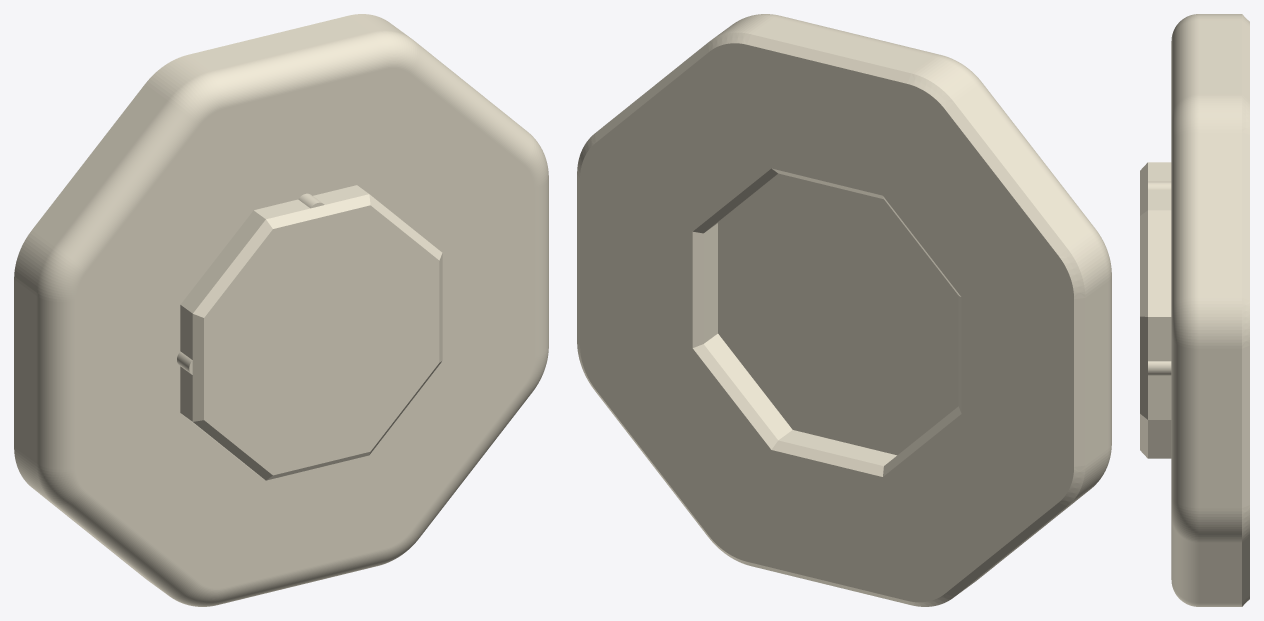
File: t2@ivory.glb
3 views of the same model, side by side, from view 1: azimuth 30°, elevation 25°; view 2: azimuth 150°, elevation 25°; view 3: azimuth 270°, elevation 25° (orthographic). The views are drawn at different scales.
Visible parts, largest first — view 1: geometry_0; view 2: geometry_0; view 3: geometry_0.
Part boxes in pixels (bbox=[...]): geometry_0: bbox=[14, 14, 548, 606]; geometry_0: bbox=[577, 14, 1111, 606]; geometry_0: bbox=[1140, 14, 1249, 606].
Size of the model in its own units: 28.5 by 28.5 by 5.6.
